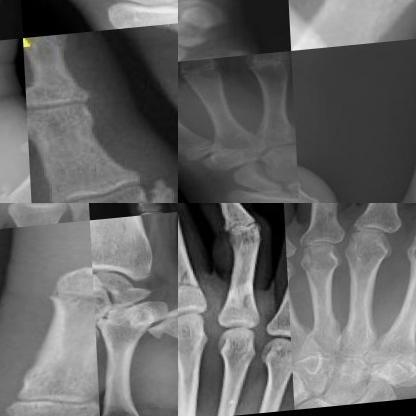fracture: (61, 174, 176, 202), (36, 283, 92, 340), (178, 260, 204, 304), (141, 318, 177, 349), (216, 189, 297, 202)
